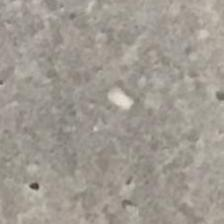Non_Crack: (26, 14, 224, 224)
